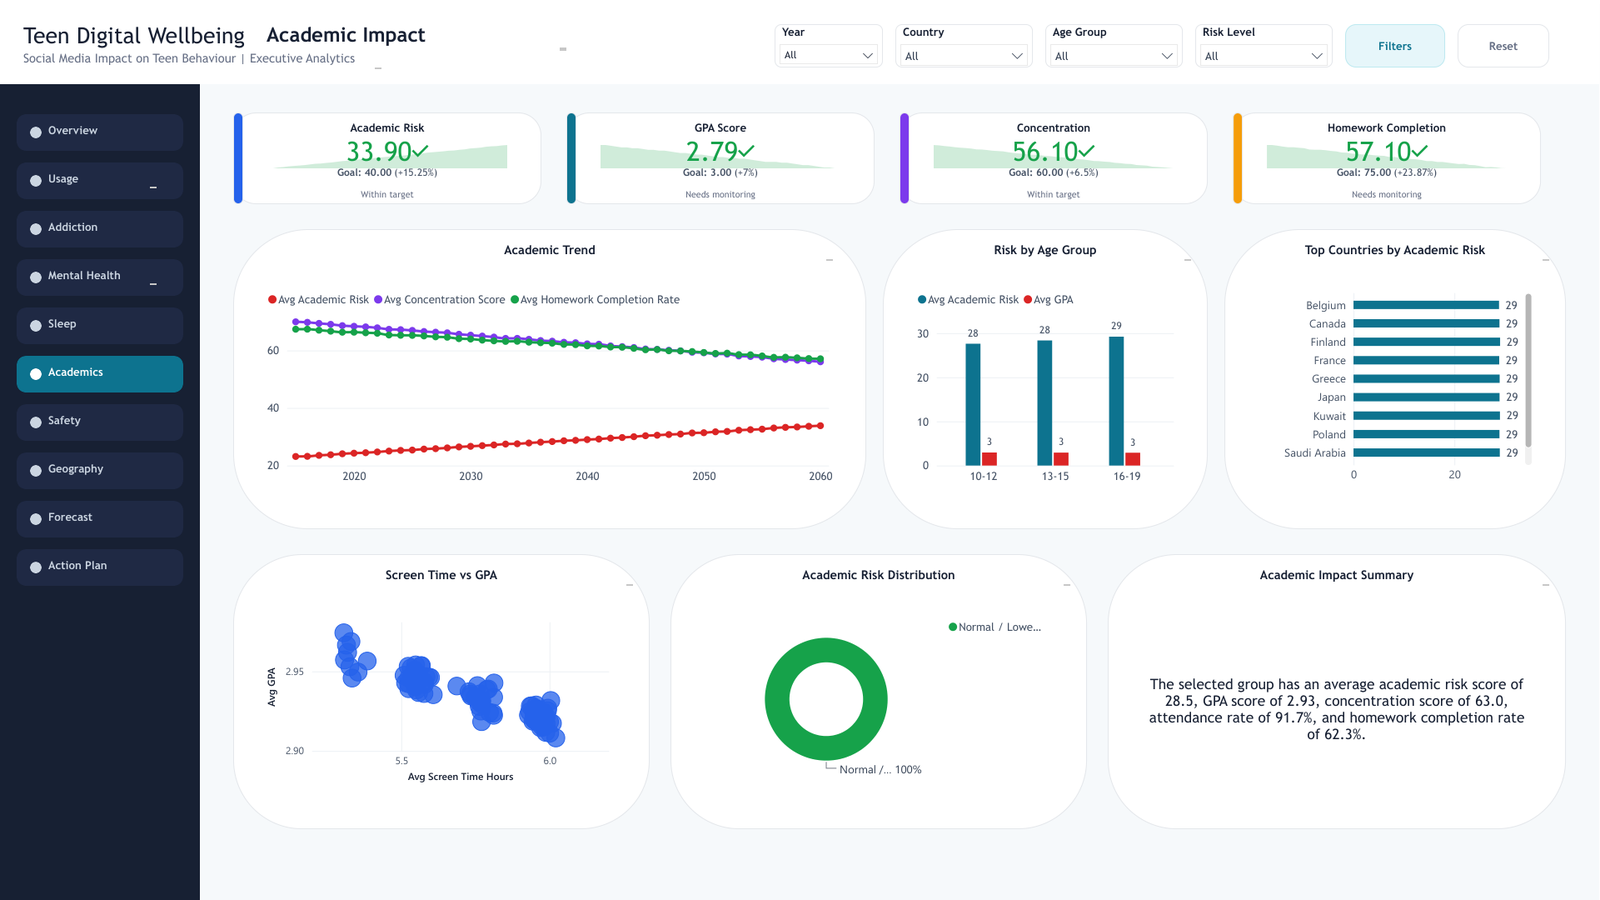

This screenshot's page, from the dashboard's own definition file:
{"tool":"powerbi","page":{"name":"Academic Impact","canvas":[1920,1080],"ordinal":5},"visuals":[{"type":"shape","title":"SHAPE Header","box":[0,0,1920,96],"z":0},{"type":"textbox","title":"Teen Digital Wellbeing","box":[28,22,360,34],"z":1000},{"type":"textbox","title":"Social Media Impact on Teen Behaviour | Executive Analytics","box":[28,56,430,22],"z":2000},{"type":"textbox","title":"Academic Impact","box":[320,22,360,34],"z":3000},{"type":"slicer","title":"SLICER Year","fields":{"Values":["DimDate.Year"]},"box":[930,24,130,52],"z":4000},{"type":"slicer","title":"SLICER Country","fields":{"Values":["DimCountry.country"]},"box":[1075,24,165,52],"z":5000},{"type":"slicer","title":"SLICER Age Group","fields":{"Values":["DimDemographic.age_group"]},"box":[1255,24,165,52],"z":6000},{"type":"slicer","title":"SLICER Risk Level","fields":{"Values":["DimRisk.risk_level"]},"box":[1435,24,165,52],"z":7000},{"type":"shape","title":"BTN Filters","box":[1615,24,120,52],"z":8000},{"type":"shape","title":"BTN Reset","box":[1750,24,110,52],"z":9000},{"type":"shape","title":"SHAPE Left Navigation","box":[0,96,240,984],"z":10000},{"type":"shape","box":[20,132,200,44],"z":11000},{"type":"textbox","title":"Overview","box":[58,143,130,20],"z":12000},{"type":"shape","box":[20,190,200,44],"z":13000},{"type":"shape","box":[20,248,200,44],"z":14000},{"type":"textbox","title":"Usage","box":[58,201,130,20],"z":15000},{"type":"textbox","title":"Addiction","box":[58,259,130,20],"z":16000},{"type":"shape","box":[36,147,14,14],"z":17000},{"type":"shape","box":[36,205,14,14],"z":18000},{"type":"shape","box":[36,263,14,14],"z":19000},{"type":"actionButton","box":[20,132,200,44],"z":20000},{"type":"actionButton","box":[20,190,200,44],"z":21000},{"type":"actionButton","box":[20,246,200,48],"z":22000},{"type":"shape","box":[20,306,200,44],"z":23000},{"type":"shape","box":[20,364,200,44],"z":24000},{"type":"shape","box":[20,422,200,44],"z":25000},{"type":"shape","box":[20,480,200,44],"z":26000},{"type":"shape","box":[20,538,200,44],"z":27000},{"type":"shape","box":[20,596,200,44],"z":28000},{"type":"shape","box":[20,654,200,44],"z":29000},{"type":"textbox","title":"Mental Health","box":[58,317,130,20],"z":32000},{"type":"textbox","title":"Sleep","box":[58,375,130,20],"z":33000},{"type":"textbox","title":"Academics","box":[58,433,130,20],"z":34000},{"type":"textbox","title":"Safety","box":[58,491,130,20],"z":35000},{"type":"textbox","title":"Geography","box":[58,549,130,20],"z":36000},{"type":"textbox","title":"Forecast","box":[58,607,130,20],"z":37000},{"type":"textbox","title":"Action Plan","box":[58,665,130,20],"z":38000},{"type":"shape","box":[36,321,14,14],"z":41000},{"type":"shape","box":[36,379,14,14],"z":42000},{"type":"shape","box":[36,437,14,14],"z":43000},{"type":"shape","box":[36,495,14,14],"z":44000},{"type":"shape","box":[36,553,14,14],"z":45000},{"type":"shape","box":[36,611,14,14],"z":46000},{"type":"shape","box":[36,669,14,14],"z":47000},{"type":"actionButton","box":[20,306,200,44],"z":50000},{"type":"actionButton","box":[20,364,200,44],"z":51000},{"type":"actionButton","box":[20,422,200,44],"z":52000},{"type":"actionButton","box":[20,480,200,44],"z":53000},{"type":"actionButton","box":[20,538,200,44],"z":54000},{"type":"actionButton","box":[20,596,200,44],"z":55000},{"type":"actionButton","box":[20,654,200,44],"z":56000},{"type":"shape","title":"SHAPE KPI Avg Screen Time","box":[280,130,370,110],"z":59000},{"type":"shape","title":"SHAPE KPI Avg Screen Time","box":[680,130,370,110],"z":60000},{"type":"shape","title":"SHAPE KPI Avg Screen Time","box":[1080,130,370,110],"z":61000},{"type":"shape","title":"SHAPE KPI Avg Screen Time","box":[1480,130,370,110],"z":62000},{"type":"shape","title":"SHAPE KPI Avg Screen Time","box":[280,130,12,110],"z":63000},{"type":"shape","title":"SHAPE KPI Avg Screen Time","box":[1480,130,12,110],"z":64000},{"type":"shape","title":"SHAPE KPI Avg Screen Time","box":[1080,130,12,110],"z":65000},{"type":"shape","title":"SHAPE KPI Avg Screen Time","box":[680,130,12,110],"z":66000},{"type":"kpi","fields":{"TrendLine":["DimDate.Year"],"Indicator":["_Measures.Avg Academic Risk KPI"],"Goal":["_Measures.Academic Risk Target"]},"box":[305,155,320,58],"z":67000},{"type":"kpi","fields":{"TrendLine":["DimDate.Year"],"Goal":["_Measures.Homework Completion Target"],"Indicator":["_Measures.Avg Homework Completion KPI"]},"box":[1505,155,320,58],"z":68000},{"type":"kpi","fields":{"TrendLine":["DimDate.Year"],"Indicator":["_Measures.Avg Concentration KPI"],"Goal":["_Measures.Concentration Target"]},"box":[1105,155,320,58],"z":69000},{"type":"kpi","fields":{"TrendLine":["DimDate.Year"],"Goal":["_Measures.GPA Target"],"Indicator":["_Measures.Avg GPA KPI"]},"box":[705,155,320,58],"z":70000},{"type":"shape","box":[305,138,320,20],"z":71000},{"type":"shape","box":[1505,138,320,20],"z":72000},{"type":"shape","box":[1105,138,320,20],"z":73000},{"type":"shape","box":[705,138,320,20],"z":74000},{"type":"cardVisual","fields":{"Data":["_Measures.Academic Risk KPI Status"]},"box":[305,218,320,18],"z":75000},{"type":"cardVisual","fields":{"Data":["_Measures.Homework Completion KPI Status"]},"box":[1505,218,320,18],"z":76000},{"type":"cardVisual","fields":{"Data":["_Measures.Concentration KPI Status"]},"box":[1105,218,320,18],"z":77000},{"type":"cardVisual","fields":{"Data":["_Measures.GPA KPI Status"]},"box":[705,218,320,18],"z":78000},{"type":"shape","box":[280,270,760,360],"z":79000},{"type":"shape","box":[1330,660,550,330],"z":80000},{"type":"shape","box":[805,660,500,330],"z":81000},{"type":"shape","box":[280,660,500,330],"z":82000},{"type":"shape","box":[1470,270,410,360],"z":83000},{"type":"shape","box":[1060,270,390,360],"z":84000},{"type":"textbox","title":"Academic Trend","box":[320,286,680,22],"z":85000},{"type":"textbox","title":"Academic Impact Summary","box":[1350,676,510,22],"z":86000},{"type":"textbox","title":"Academic Risk Distribution","box":[825,676,460,22],"z":87000},{"type":"textbox","title":"Screen Time vs GPA","box":[300,676,460,22],"z":88000},{"type":"textbox","title":"Top Countries by Academic Risk","box":[1490,286,370,22],"z":89000},{"type":"textbox","title":"Risk by Age Group","box":[1080,286,350,22],"z":90000},{"type":"lineChart","fields":{"Category":["DimDate.Year"],"Y":["_Measures.Avg Academic Risk","_Measures.Avg Concentration Score","_Measures.Avg Homework Completion Rate"]},"box":[305,325,710,270],"z":91000},{"type":"clusteredColumnChart","fields":{"Category":["DimDemographic.age_group"],"Y":["_Measures.Avg Academic Risk","_Measures.Avg GPA"]},"box":[1085,325,340,270],"z":92000},{"type":"clusteredBarChart","fields":{"Category":["DimCountry.country"],"Y":["_Measures.Avg Academic Risk"]},"box":[1495,325,360,270],"z":93000},{"type":"scatterChart","fields":{"X":["_Measures.Avg Screen Time Hours"],"Y":["_Measures.Avg GPA"],"Category":["DimCountry.country"],"Size":["_Measures.Teen Records"]},"box":[305,720,450,230],"z":94000},{"type":"donutChart","fields":{"Y":["_Measures.Teen Records"],"Category":["FactTeenBehaviour.Academic Risk Label"]},"box":[830,720,450,230],"z":95000},{"type":"cardVisual","fields":{"Data":["_Measures.Academic Page Summary"]},"box":[1360,730,490,230],"z":96000}]}

Visuals, with their boxes in screenshot pixels (x1, y1, x2, y2), scaled from the page's 1920x1080 canvas onto the 1600x900 screenshot:
"SHAPE Header" shape: [0, 0, 1599, 80]
"Teen Digital Wellbeing" textbox: [23, 18, 323, 47]
"Social Media Impact on Teen Behaviour | Executive Analytics" textbox: [23, 47, 382, 65]
"Academic Impact" textbox: [267, 18, 567, 47]
"SLICER Year" slicer: [775, 20, 883, 63]
"SLICER Country" slicer: [896, 20, 1033, 63]
"SLICER Age Group" slicer: [1046, 20, 1183, 63]
"SLICER Risk Level" slicer: [1196, 20, 1333, 63]
"BTN Filters" shape: [1346, 20, 1446, 63]
"BTN Reset" shape: [1458, 20, 1550, 63]
"SHAPE Left Navigation" shape: [0, 80, 200, 899]
shape: [17, 110, 183, 147]
"Overview" textbox: [48, 119, 157, 136]
shape: [17, 158, 183, 195]
shape: [17, 207, 183, 243]
"Usage" textbox: [48, 168, 157, 184]
"Addiction" textbox: [48, 216, 157, 232]
shape: [30, 122, 42, 134]
shape: [30, 171, 42, 182]
shape: [30, 219, 42, 231]
actionButton: [17, 110, 183, 147]
actionButton: [17, 158, 183, 195]
actionButton: [17, 205, 183, 245]
shape: [17, 255, 183, 292]
shape: [17, 303, 183, 340]
shape: [17, 352, 183, 388]
shape: [17, 400, 183, 437]
shape: [17, 448, 183, 485]
shape: [17, 497, 183, 533]
shape: [17, 545, 183, 582]
"Mental Health" textbox: [48, 264, 157, 281]
"Sleep" textbox: [48, 312, 157, 329]
"Academics" textbox: [48, 361, 157, 378]
"Safety" textbox: [48, 409, 157, 426]
"Geography" textbox: [48, 458, 157, 474]
"Forecast" textbox: [48, 506, 157, 522]
"Action Plan" textbox: [48, 554, 157, 571]
shape: [30, 268, 42, 279]
shape: [30, 316, 42, 328]
shape: [30, 364, 42, 376]
shape: [30, 412, 42, 424]
shape: [30, 461, 42, 472]
shape: [30, 509, 42, 521]
shape: [30, 558, 42, 569]
actionButton: [17, 255, 183, 292]
actionButton: [17, 303, 183, 340]
actionButton: [17, 352, 183, 388]
actionButton: [17, 400, 183, 437]
actionButton: [17, 448, 183, 485]
actionButton: [17, 497, 183, 533]
actionButton: [17, 545, 183, 582]
"SHAPE KPI Avg Screen Time" shape: [233, 108, 542, 200]
"SHAPE KPI Avg Screen Time" shape: [567, 108, 875, 200]
"SHAPE KPI Avg Screen Time" shape: [900, 108, 1208, 200]
"SHAPE KPI Avg Screen Time" shape: [1233, 108, 1542, 200]
"SHAPE KPI Avg Screen Time" shape: [233, 108, 243, 200]
"SHAPE KPI Avg Screen Time" shape: [1233, 108, 1243, 200]
"SHAPE KPI Avg Screen Time" shape: [900, 108, 910, 200]
"SHAPE KPI Avg Screen Time" shape: [567, 108, 577, 200]
kpi - DimDate.Year x _Measures.Avg Academic Risk KPI: [254, 129, 521, 178]
kpi - DimDate.Year x _Measures.Homework Completion Target: [1254, 129, 1521, 178]
kpi - DimDate.Year x _Measures.Avg Concentration KPI: [921, 129, 1188, 178]
kpi - DimDate.Year x _Measures.GPA Target: [588, 129, 854, 178]
shape: [254, 115, 521, 132]
shape: [1254, 115, 1521, 132]
shape: [921, 115, 1188, 132]
shape: [588, 115, 854, 132]
cardVisual - _Measures.Academic Risk KPI Status: [254, 182, 521, 197]
cardVisual - _Measures.Homework Completion KPI Status: [1254, 182, 1521, 197]
cardVisual - _Measures.Concentration KPI Status: [921, 182, 1188, 197]
cardVisual - _Measures.GPA KPI Status: [588, 182, 854, 197]
shape: [233, 225, 867, 525]
shape: [1108, 550, 1567, 825]
shape: [671, 550, 1088, 825]
shape: [233, 550, 650, 825]
shape: [1225, 225, 1567, 525]
shape: [883, 225, 1208, 525]
"Academic Trend" textbox: [267, 238, 833, 257]
"Academic Impact Summary" textbox: [1125, 563, 1550, 582]
"Academic Risk Distribution" textbox: [688, 563, 1071, 582]
"Screen Time vs GPA" textbox: [250, 563, 633, 582]
"Top Countries by Academic Risk" textbox: [1242, 238, 1550, 257]
"Risk by Age Group" textbox: [900, 238, 1192, 257]
lineChart - DimDate.Year x _Measures.Avg Academic Risk: [254, 271, 846, 496]
clusteredColumnChart - DimDemographic.age_group x _Measures.Avg Academic Risk: [904, 271, 1188, 496]
clusteredBarChart - DimCountry.country x _Measures.Avg Academic Risk: [1246, 271, 1546, 496]
scatterChart - _Measures.Avg Screen Time Hours x _Measures.Avg GPA: [254, 600, 629, 792]
donutChart - _Measures.Teen Records x FactTeenBehaviour.Academic Risk Label: [692, 600, 1067, 792]
cardVisual - _Measures.Academic Page Summary: [1133, 608, 1542, 800]
